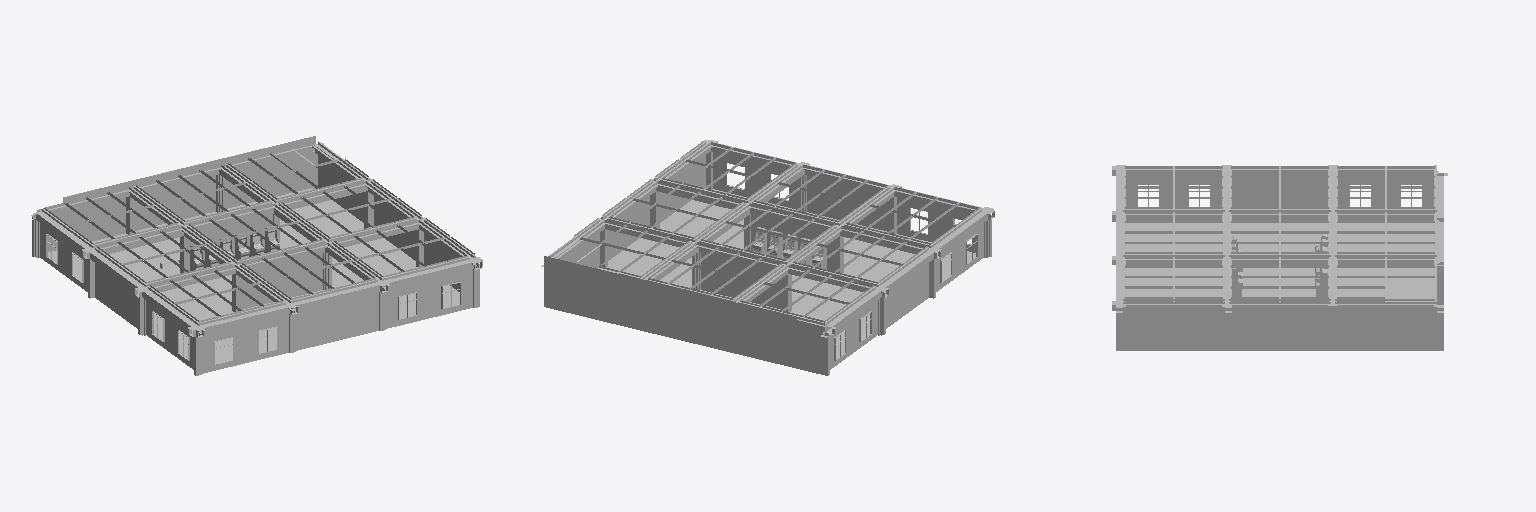
The model's file is Автоматы в музее😱.obj.
3 renders of one model, left to right at view 1: azimuth 30°, elevation 25°; view 2: azimuth 150°, elevation 25°; view 3: azimuth 270°, elevation 25°, orthographic.
Visible parts, largest first — view 1: group_0_ID4; view 2: group_0_ID4; view 3: group_0_ID4.
Boxes of the visible parts, <box> form: group_0_ID4: <box>31,136,482,375</box>; group_0_ID4: <box>541,140,994,375</box>; group_0_ID4: <box>1112,165,1447,350</box>.
Size of the model in its own units: 28.24 by 4.77 by 28.24.